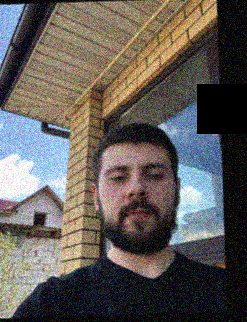without_mask: (100, 156, 175, 254)
